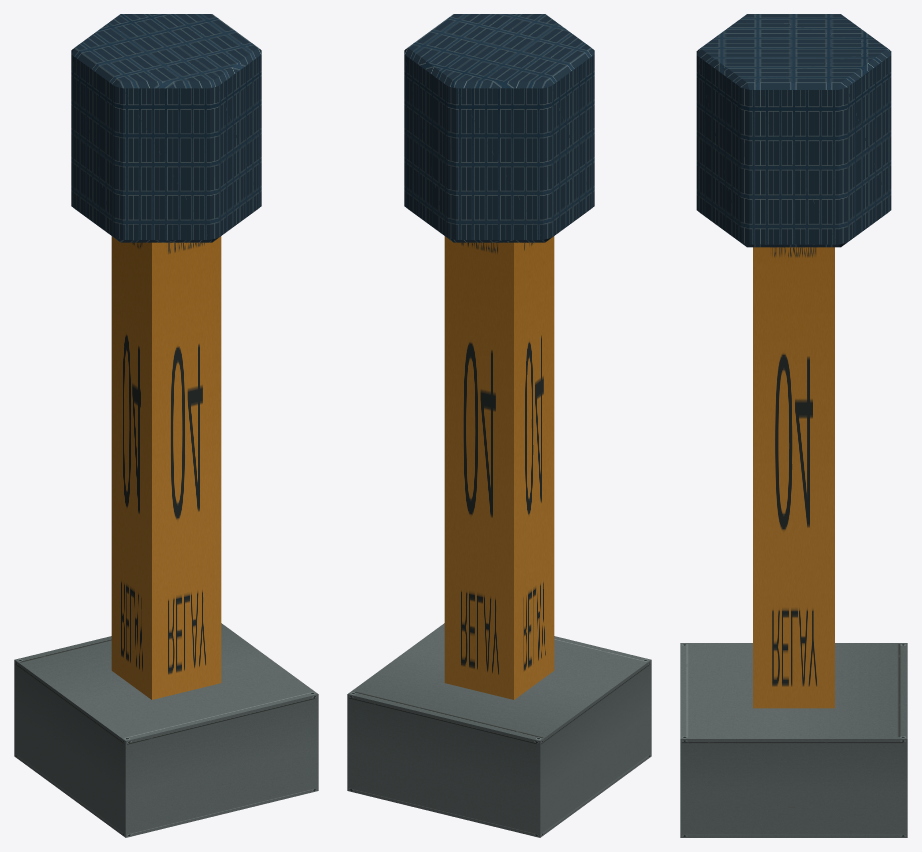
The model's file is warning_beacon_LOD3.obj.
3 renders of one model, left to right at view 1: azimuth 30°, elevation 25°; view 2: azimuth 150°, elevation 25°; view 3: azimuth 270°, elevation 25°, orthographic. The views are drawn at different scales.
Visible parts, largest first — view 1: L02_warning_beacon_LOD3; view 2: L02_warning_beacon_LOD3; view 3: L02_warning_beacon_LOD3.
Part boxes in pixels (box(x1,y1,x2,y2)): L02_warning_beacon_LOD3: box(14, 14, 318, 837); L02_warning_beacon_LOD3: box(347, 14, 651, 837); L02_warning_beacon_LOD3: box(680, 14, 907, 837).
Bounding box in the file's own units: 0.5 × 1.8 × 0.5.
1 material, 1 textured.
